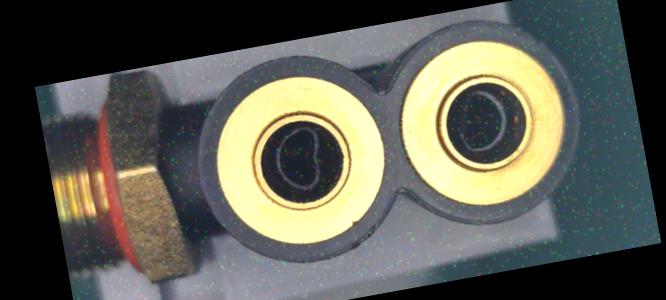off-centered: (260, 119, 336, 202), (440, 82, 518, 159)
